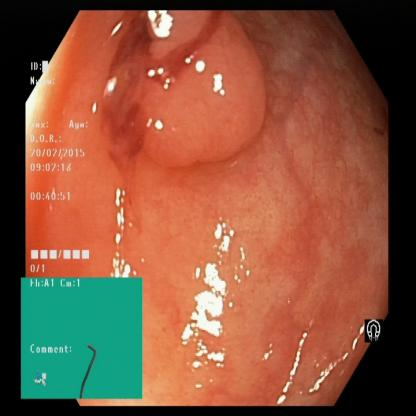Labels: (27, 56, 98, 279), (21, 276, 143, 399)
Polyps: (138, 16, 260, 155)
